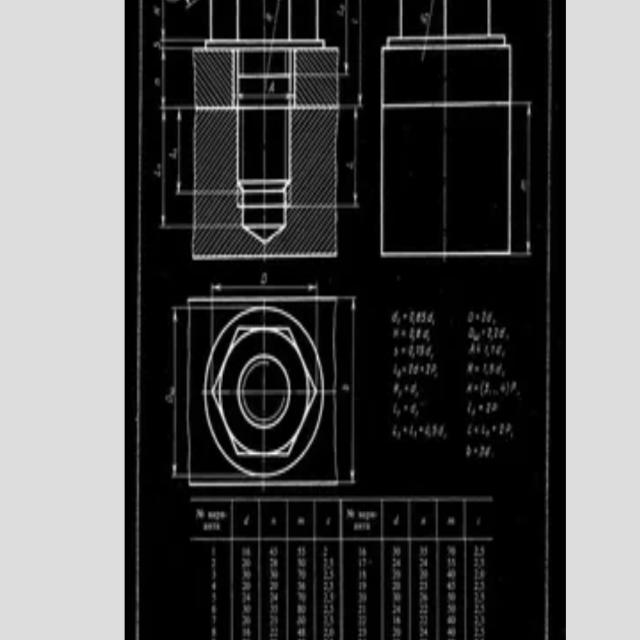marking_line: (160, 104, 194, 230), (170, 305, 189, 481), (513, 102, 534, 258), (340, 295, 356, 487), (338, 105, 364, 213), (155, 45, 194, 111), (341, 0, 364, 109), (160, 1, 205, 44), (177, 106, 193, 195), (211, 283, 319, 296), (339, 0, 350, 80)
